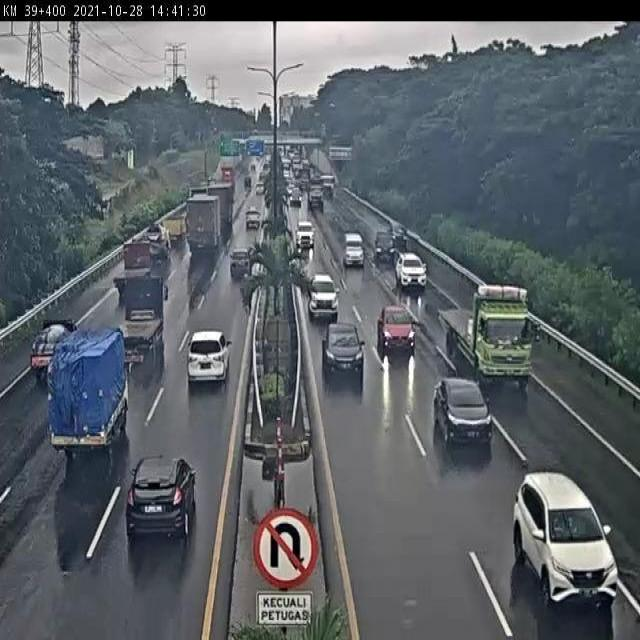car: (510, 472, 620, 608), (124, 455, 196, 541), (432, 377, 493, 447), (28, 315, 77, 377), (321, 323, 364, 380), (185, 332, 230, 385), (378, 306, 416, 358), (307, 274, 339, 318), (395, 253, 426, 288), (343, 232, 365, 265), (229, 248, 252, 277), (374, 232, 395, 261), (295, 221, 315, 248)
mid truck: (437, 283, 533, 389), (186, 193, 221, 250)
small truck: (161, 216, 186, 247)
truck-m-: (48, 325, 129, 459), (109, 276, 168, 368), (113, 240, 152, 297), (140, 224, 171, 269)
